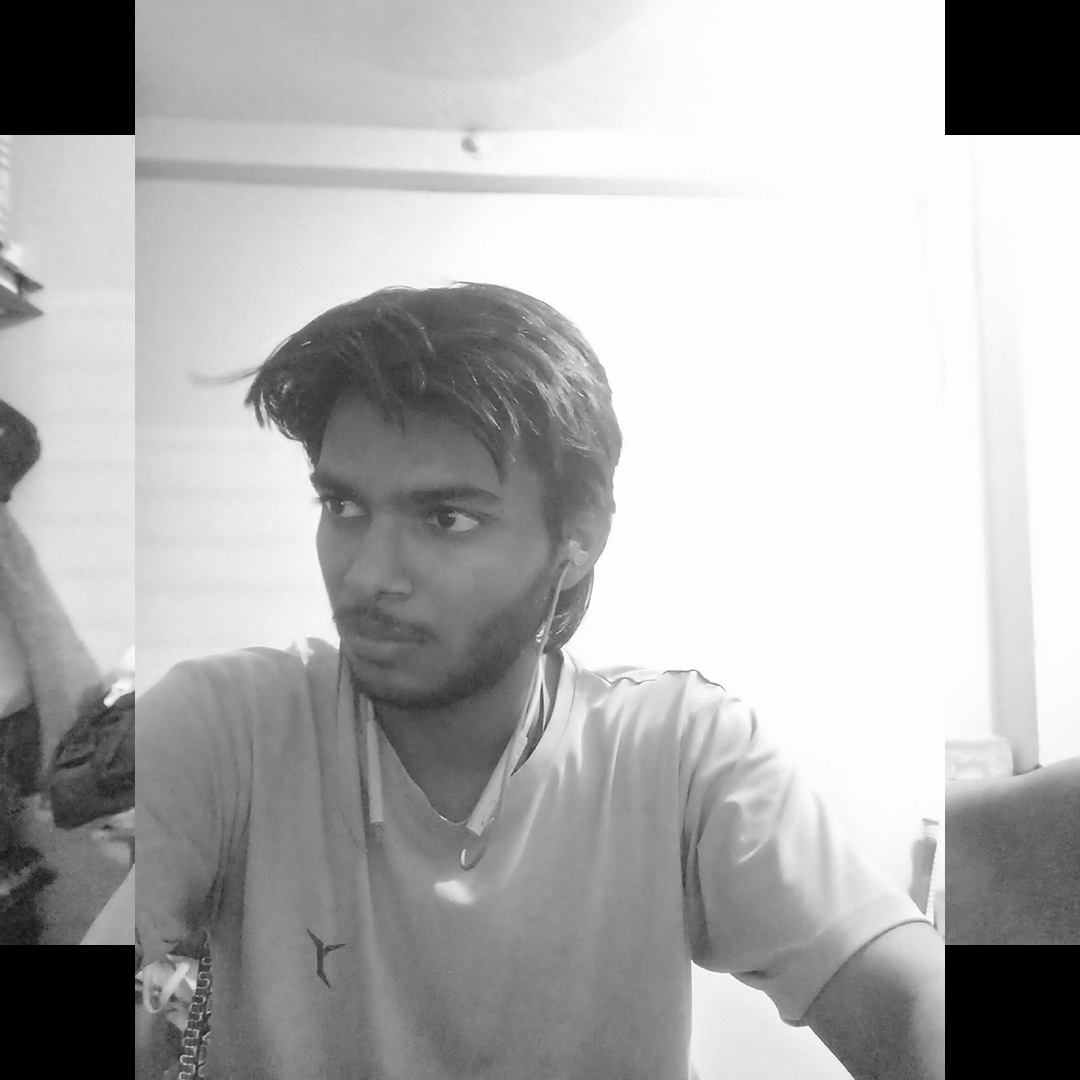distracted: (237, 248, 632, 910)
